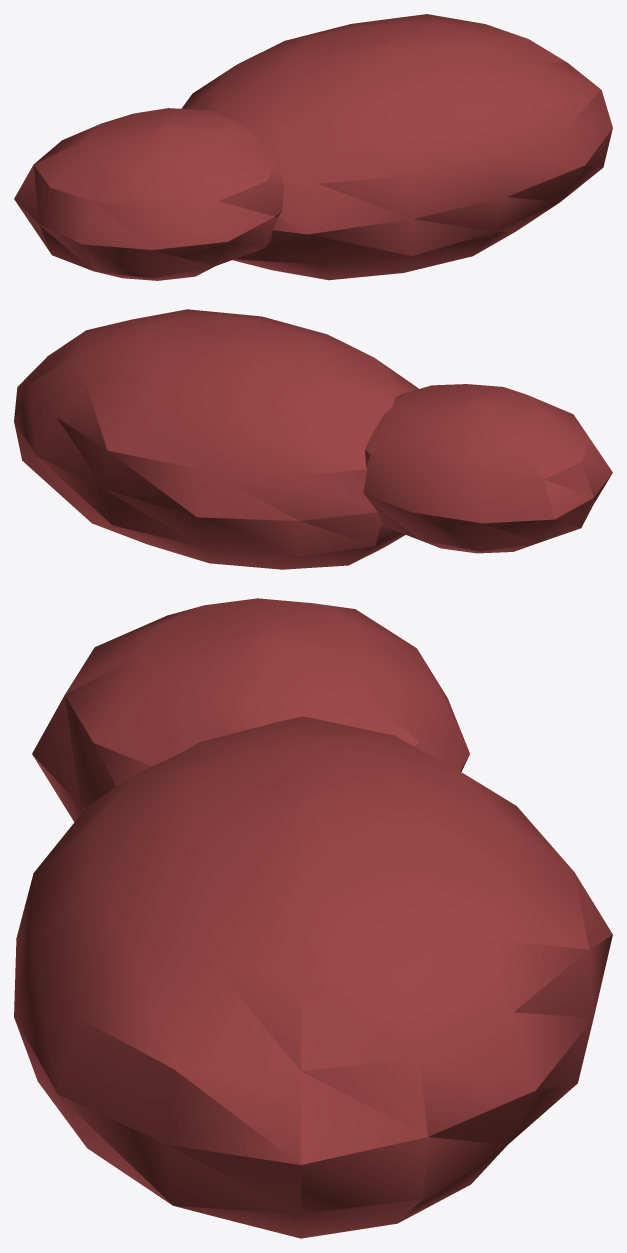
File: liver.glb
3 views of the same model, one above another, from view 1: azimuth 30°, elevation 25°; view 2: azimuth 150°, elevation 25°; view 3: azimuth 270°, elevation 25° (orthographic). The views are drawn at different scales.
Visible parts, largest first — view 1: OUT; view 2: OUT; view 3: OUT.
Part boxes in pixels (<box>): OUT: <box>14,14,612,280</box>; OUT: <box>14,309,612,569</box>; OUT: <box>14,598,612,1238</box>.
Size of the model in its own units: 0.2647 by 0.09 by 0.1382.
